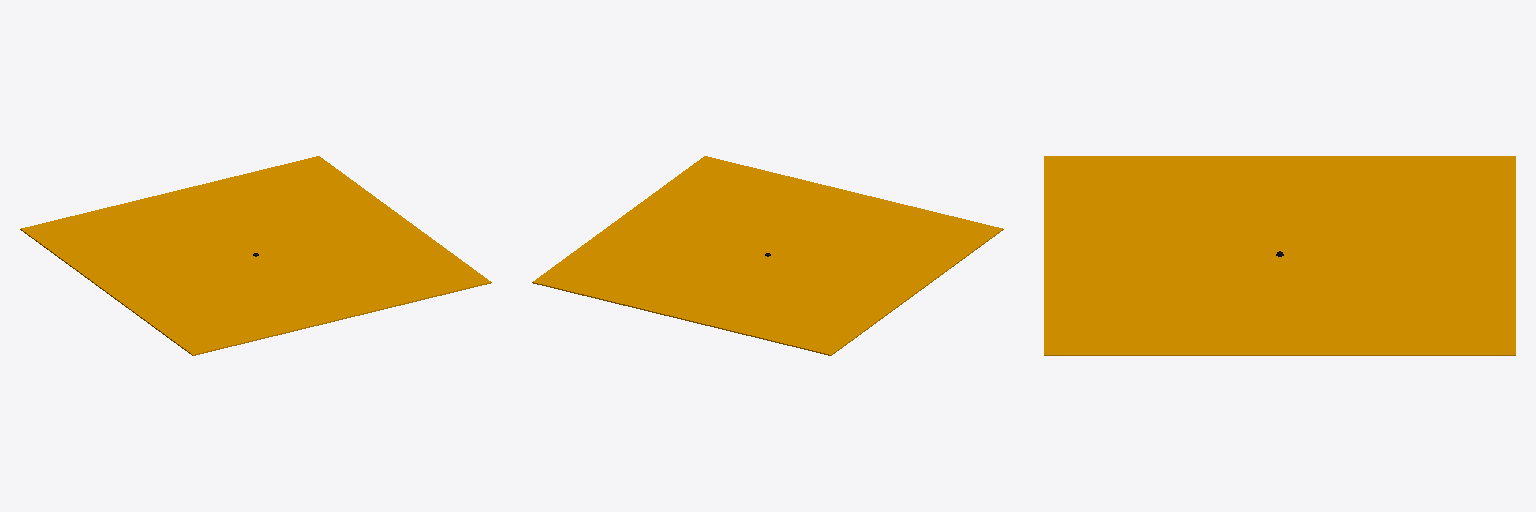
The robot description file, URDF, robot "jumper":
<robot name="jumper">
  <link name="floor">
    <visual>
      <origin xyz="0 0 -0.05"/>
      <geometry>
        <box size="25. 25. 0.1"/>
      </geometry>
    </visual>
  </link>
  
  <joint name="hip_joint" type="planar">
    <parent link="floor"/>
    <child link="hip"/>
    <origin xyz="0 0 0"/>
    <axis xyz="0 1 0"/>
  </joint>

  <link name="hip">
    <inertial>
      <mass value="2.0" />
      <inertia ixx="0.001" ixy="0" ixz="0" iyy="0.001" iyz="0" izz="0.001" />
    </inertial>
    <visual>
      <geometry>
        <sphere radius=".2" />
      </geometry>
      <material name="black">
      	<color rgba="0.1 0.1 0.1 1" />
      </material>
    </visual>
  </link>
    
  <joint name="hip_weld" type="fixed">
    <parent link="hip" />
    <child link="upper_leg" />
    <origin xyz="0 0 0" />
  </joint>

  <link name="upper_leg">
    <inertial>
      <origin xyz="0 0 -.4" rpy="0 0 0" />
      <mass value="0.5" />
      <inertia ixx="0.01" ixy="0" ixz="0" iyy="0.01" iyz="0" izz="0.01" />
    </inertial>
    <visual>
      <origin xyz="0 0 -.4" rpy="0 0 0" />
      <geometry>
        <cylinder radius=".1" length="0.8"/>
      </geometry>
      <material name="black" />
    </visual>
  </link>
  
  <joint name="knee_joint" type="revolute">
    <parent link="upper_leg" />
    <child link="knee" />
    <origin xyz="0 0 -.8" />
    <axis xyz="0 1 0" />
  </joint>
  
  <link name="knee">
    <inertial>
      <mass value="1.0" />
      <inertia ixx="0.0005" ixy="0" ixz="0" iyy="0.0005" iyz="0" izz="0.0005" />
    </inertial>
    <visual>
      <geometry>
        <sphere radius=".1" />
      </geometry>
      <material name="white">
      	<color rgba="1. 1. 1. 1" />
      </material>
    </visual>
  </link>
  
  <joint name="knee_weld" type="fixed">
    <parent link="knee" />
    <child link="lower_leg" />
    <origin xyz="0 0 0" />
  </joint>

  <link name="lower_leg">
    <inertial>
      <origin xyz="0 0 -.4" rpy="0 0 0" />
      <mass value="0.5" />
      <inertia ixx="0.005" ixy="0" ixz="0" iyy="0.005" iyz="0" izz="0.005" />
    </inertial>
    <visual>
      <origin xyz="0 0 -.4" rpy="0 0 0" />
      <geometry>
        <cylinder radius=".05" length="0.8"/>
      </geometry>
      <material name="white" />
    </visual>
  </link>
  
  <joint name="ankle" type="fixed">
    <parent link="lower_leg" />
    <child link="foot" />
    <origin xyz="0 0 -0.8"/>
  </joint>
    
  <link name="foot">
    <inertial>
      <mass value=".01" />
      <inertia ixx="0.00001" ixy="0" ixz="0" iyy="0.00001" iyz="0" izz="0.00001" />
    </inertial>
    <visual>
      <geometry>
        <sphere radius=".05" />
      </geometry>
      <material name="yellow">
      	<color rgba="1. 1. 0 1" />
      </material>
    </visual>
    <collision>
      <origin xyz="0 0 0"/>
      <geometry>
        <sphere radius="0"/>
      </geometry>
    </collision>
  </link>
</robot>

--- What the picture shows (computed from the rendered views, not written in the file) ---
The picture shows the robot from 3 angles, left to right: view 1: azimuth 30°, elevation 25°; view 2: azimuth 150°, elevation 25°; view 3: azimuth 270°, elevation 25°; orthographic projection.
Robot: jumper — 6 links, 5 joints (1 revolute, 3 fixed, 1 planar); root link floor; default pose: all joints at 0.
Visible links, largest first — view 1: floor; view 2: floor; view 3: floor.
Link boxes in pixels (<box>): floor: <box>20,156,491,355</box>; floor: <box>532,156,1003,355</box>; floor: <box>1044,156,1515,355</box>.
Size in the robot's own frame: 25 by 25 by 1.85 metres.
Geometry: primitives only (box / cylinder / sphere), no mesh files.
